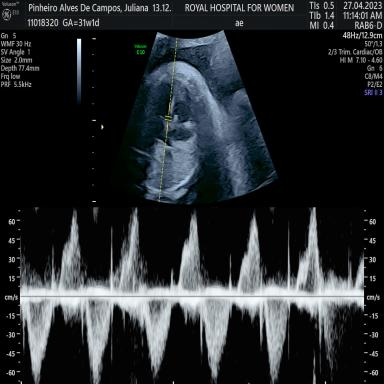Ultrasound-Waves: (26, 205, 362, 384)
